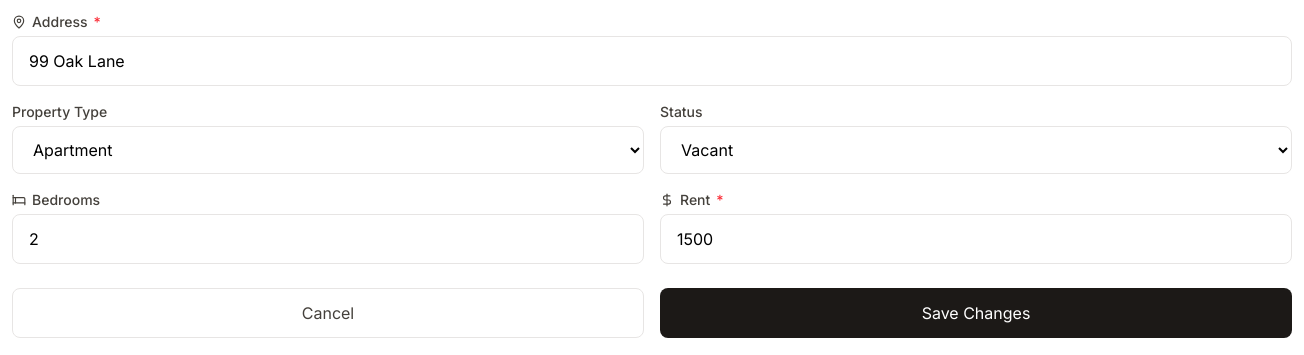
EditPropertyForm › submit button is disabled when address is cleared
Clear the field labelled "Address *" at x=652, y=61, box [12,36,1292,86]
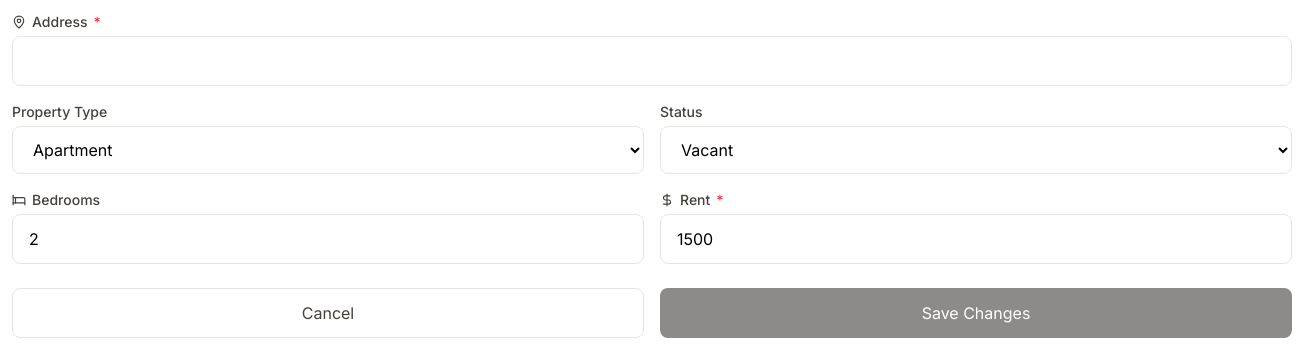
Expected: the button "Save Changes" is disabled, [660,288,1292,338]
